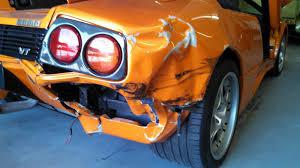fender-dent: (153, 5, 250, 57)
front-bumper-dent: (16, 68, 202, 140)
